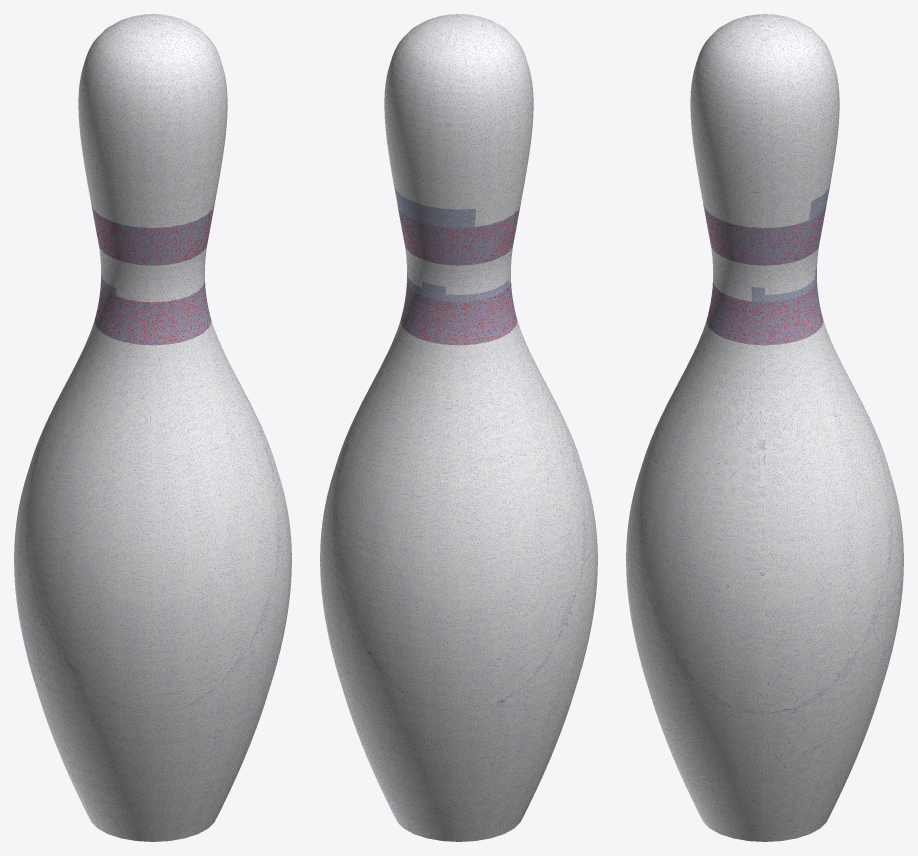
Rendered from pino.fbx.
3 renders of one model, left to right at view 1: azimuth 30°, elevation 25°; view 2: azimuth 150°, elevation 25°; view 3: azimuth 270°, elevation 25°, orthographic.
Parts seen in each view (by area): view 1: Bowling_Pin1; view 2: Bowling_Pin1; view 3: Bowling_Pin1.
Part boxes in pixels (bbox=[...]): Bowling_Pin1: bbox=[14, 14, 291, 841]; Bowling_Pin1: bbox=[320, 14, 597, 841]; Bowling_Pin1: bbox=[626, 14, 903, 841].
Size of the model in its own units: 28.67 by 90.03 by 28.67.
